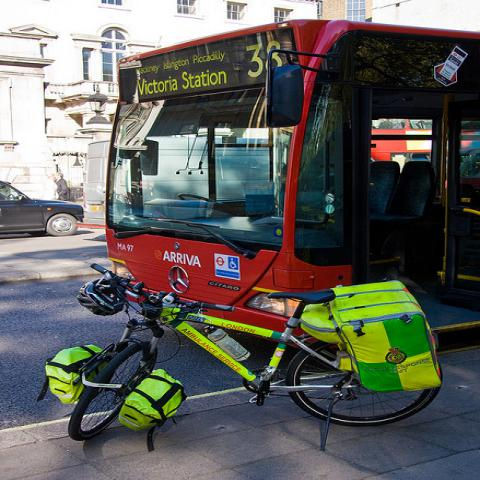bus: (100, 18, 479, 350)
truck: (0, 176, 87, 237)
